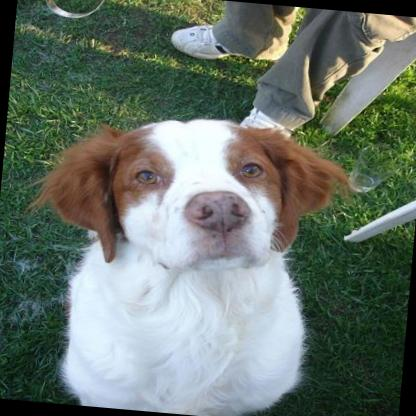Brittany_spaniel: (0, 96, 368, 416)
